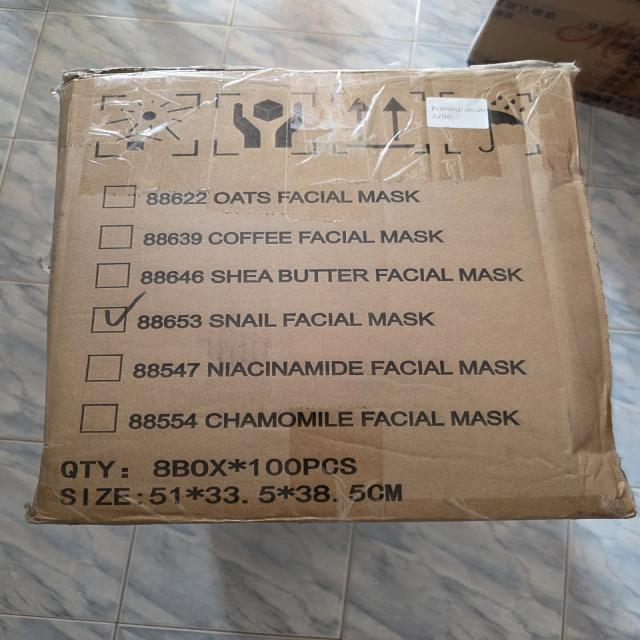carton_box: (53, 61, 635, 536)
handle_with_care_label: (214, 88, 334, 162)
keep_dry_label: (440, 89, 561, 170)
protect_from_heat_label: (93, 89, 208, 162)
this_side_up_label: (337, 80, 432, 165)
